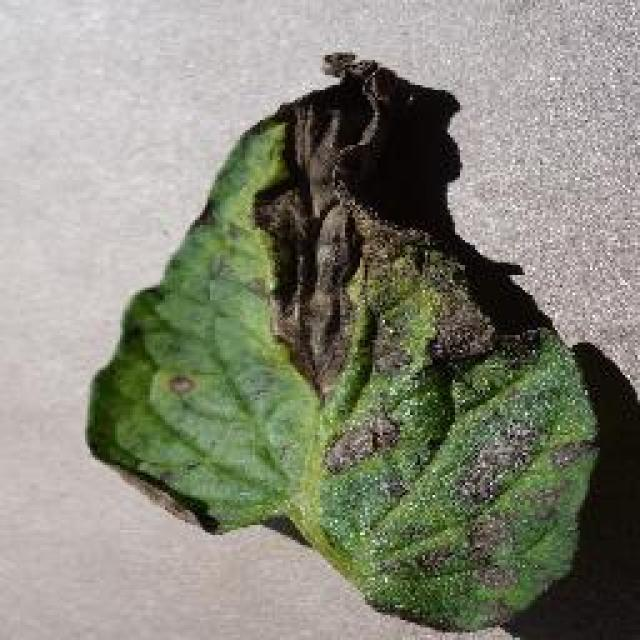Tomato___Early_blight: (84, 49, 604, 633)
